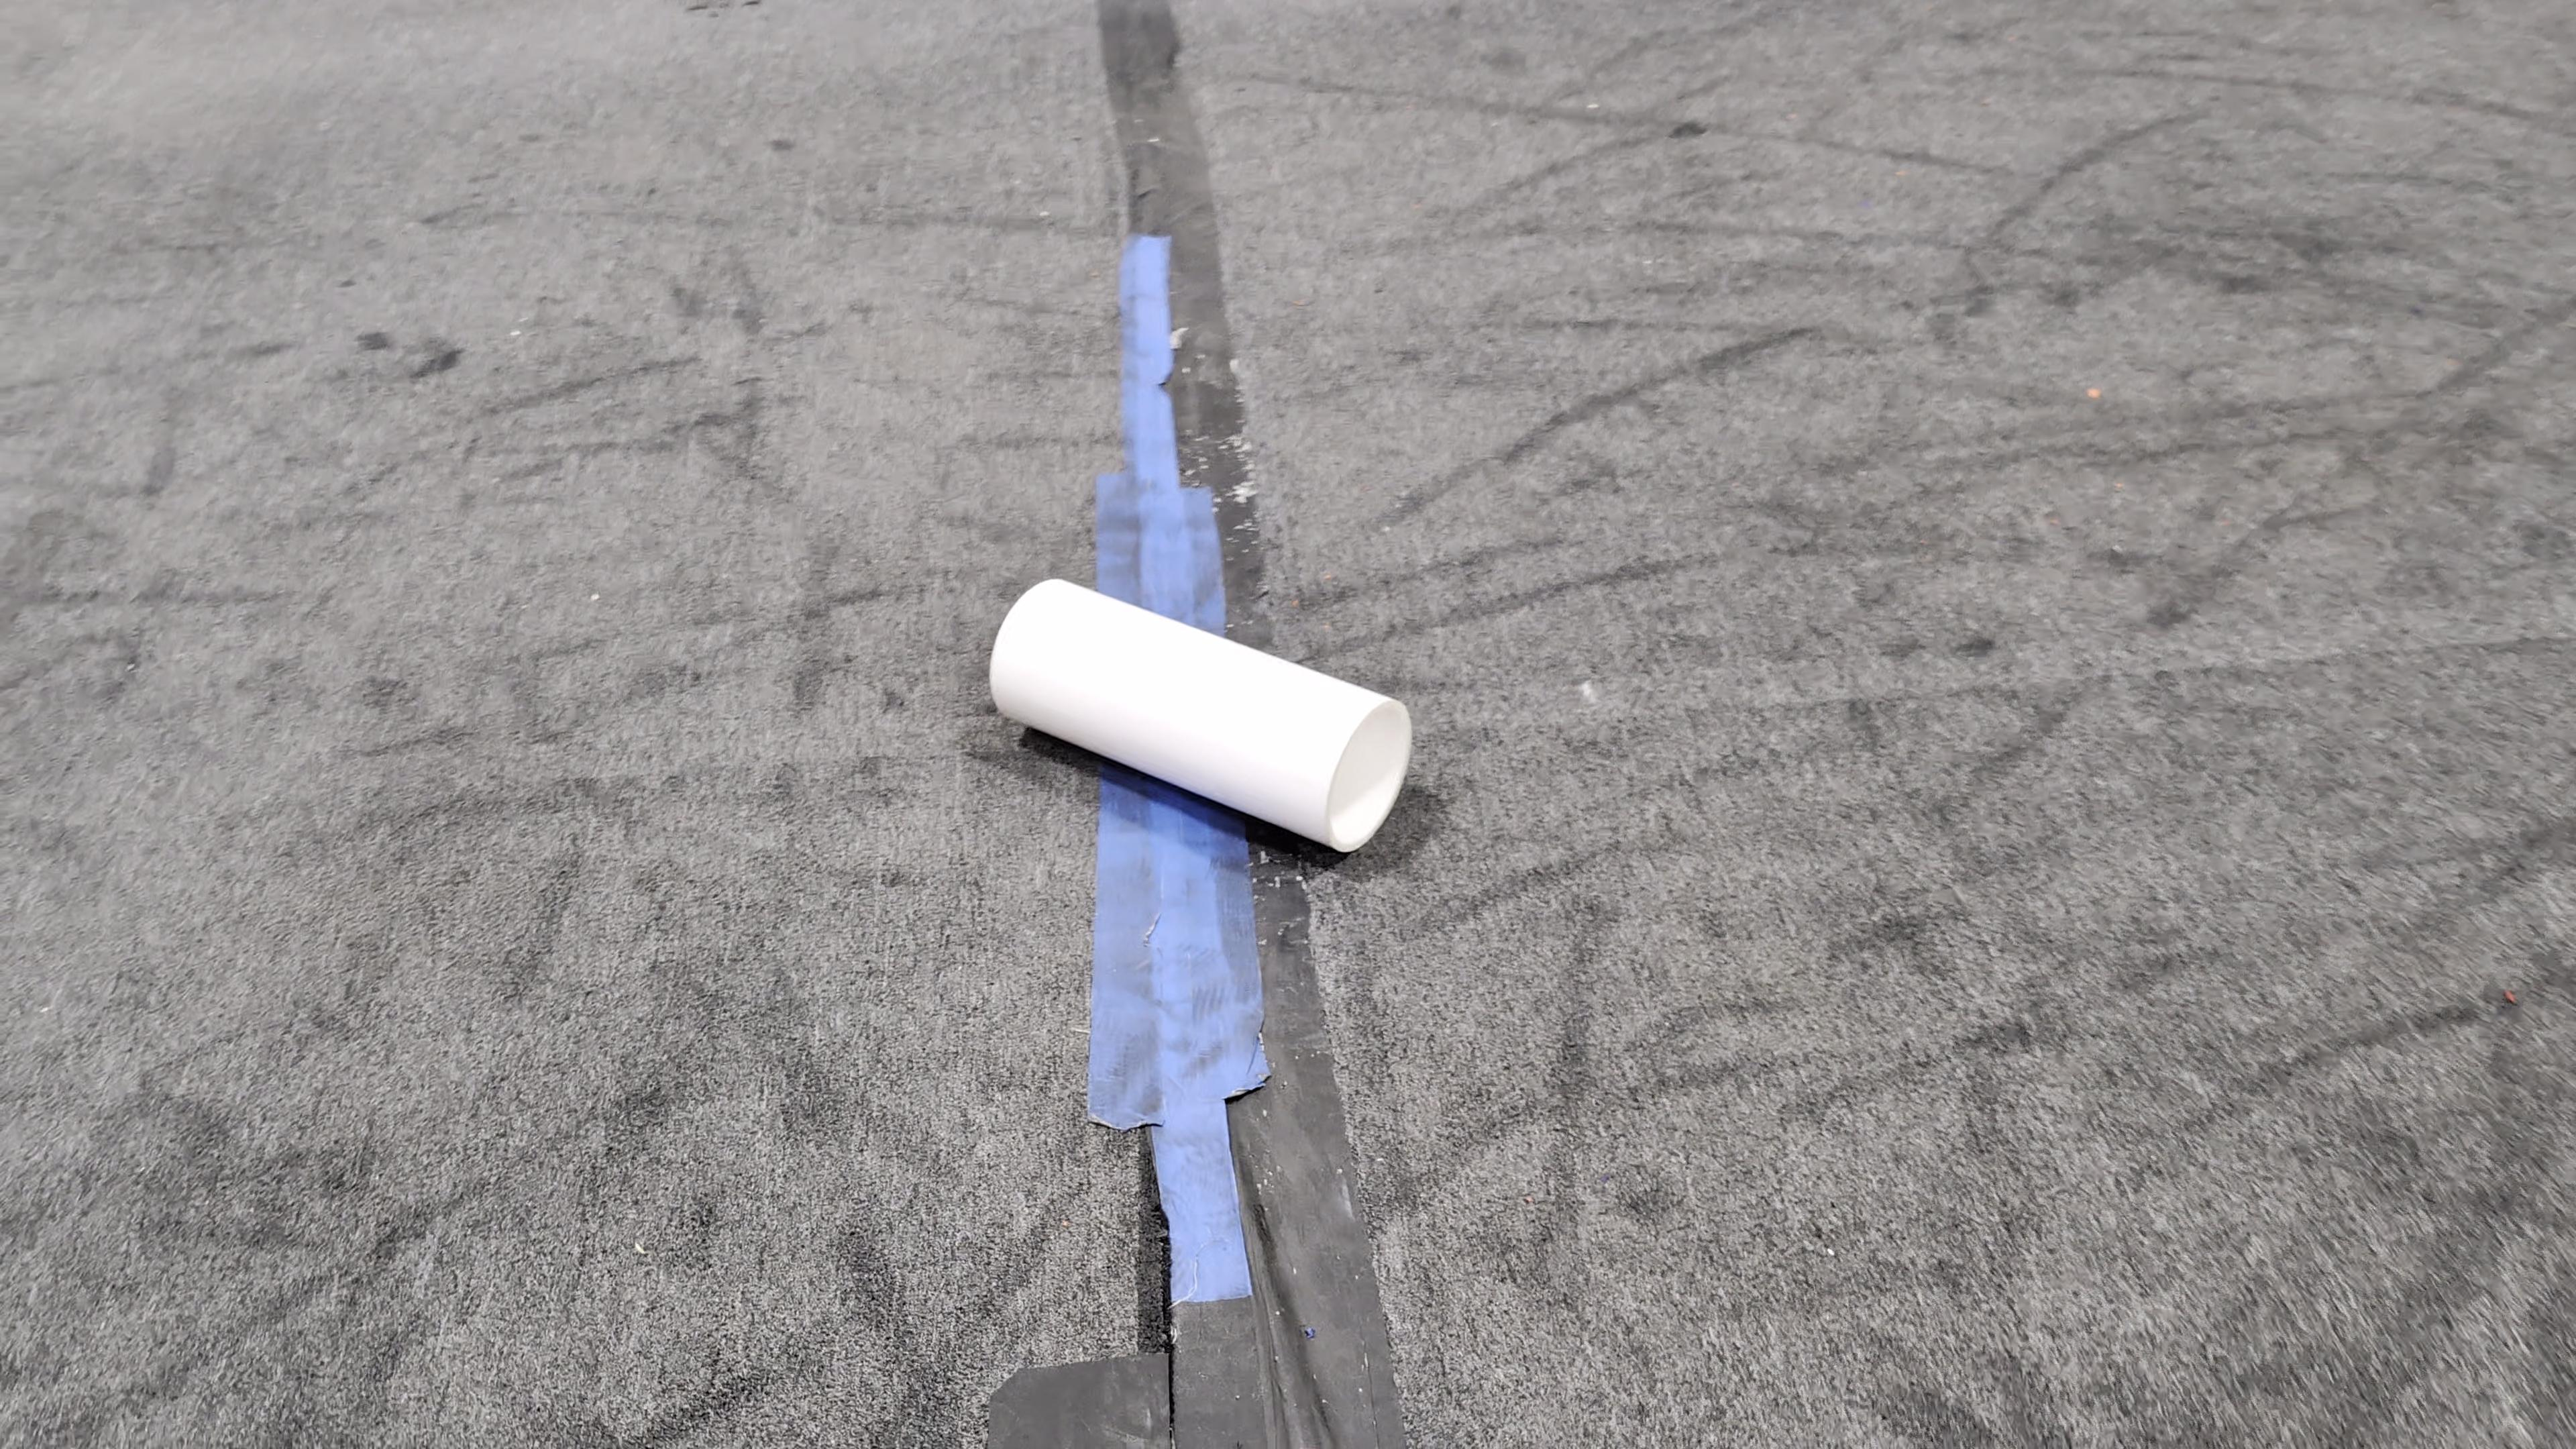coral: (987, 571, 1415, 855)
